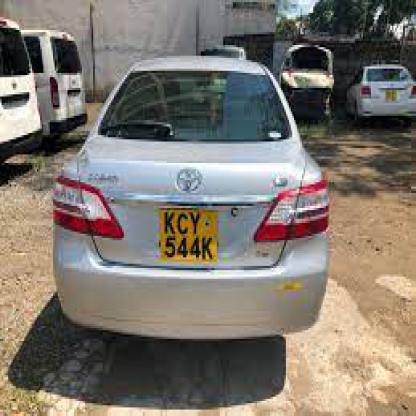car: (51, 56, 331, 354), (346, 62, 414, 127)
